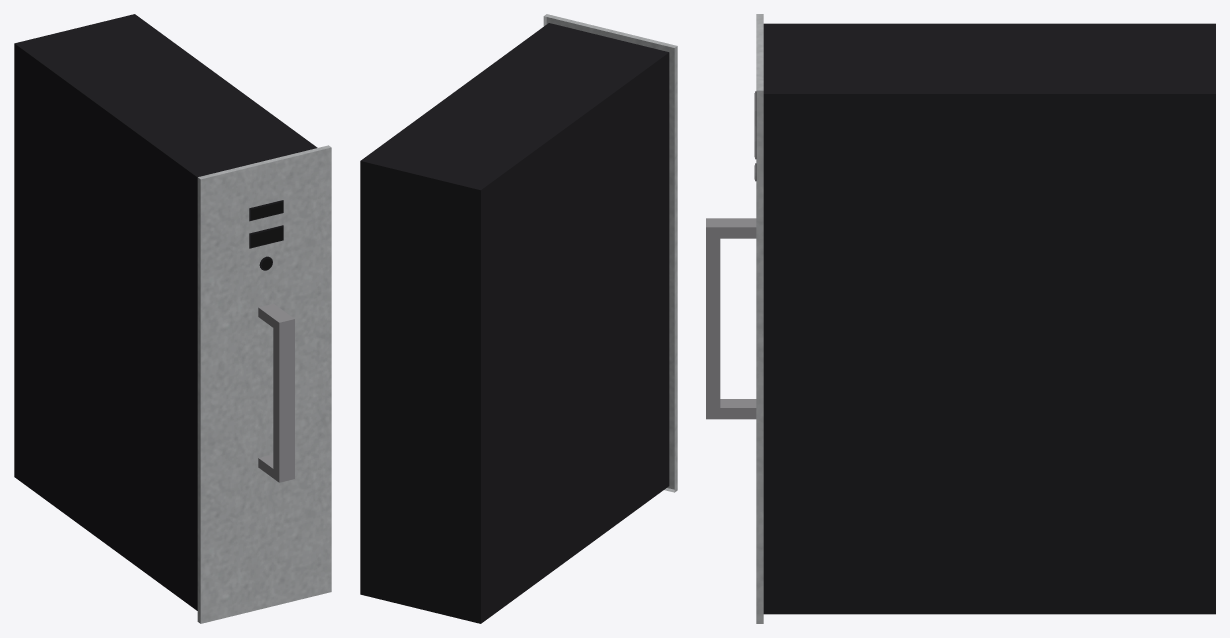
Rendered from J9831A.far.glb.
The picture shows the model from 3 angles, left to right: view 1: azimuth 30°, elevation 25°; view 2: azimuth 150°, elevation 25°; view 3: azimuth 270°, elevation 25°; orthographic projection. The views are drawn at different scales.
Visible parts, largest first — view 1: FanTray_far; view 2: FanTray_far; view 3: FanTray_far.
Part boxes in pixels (<box>): FanTray_far: <box>14,14,331,623</box>; FanTray_far: <box>360,14,677,623</box>; FanTray_far: <box>706,14,1215,623</box>.
Size of the model in its own units: 0.0505 by 0.1639 by 0.142.
3 materials, 2 textured.
